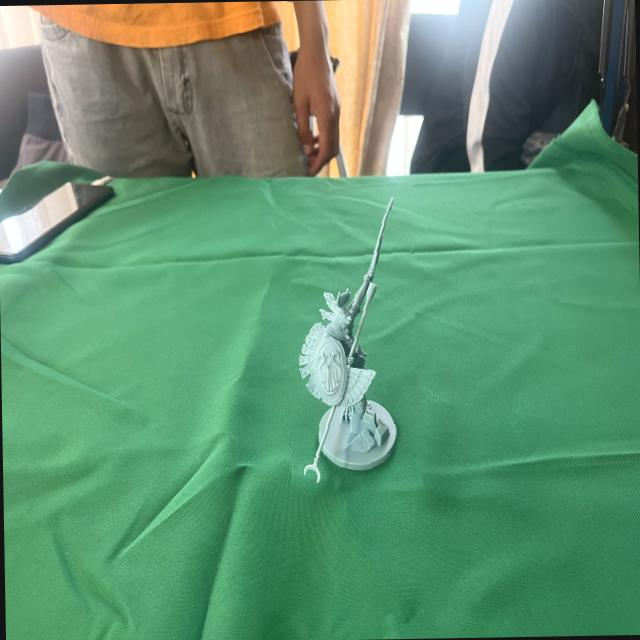isis: (284, 184, 421, 494)
